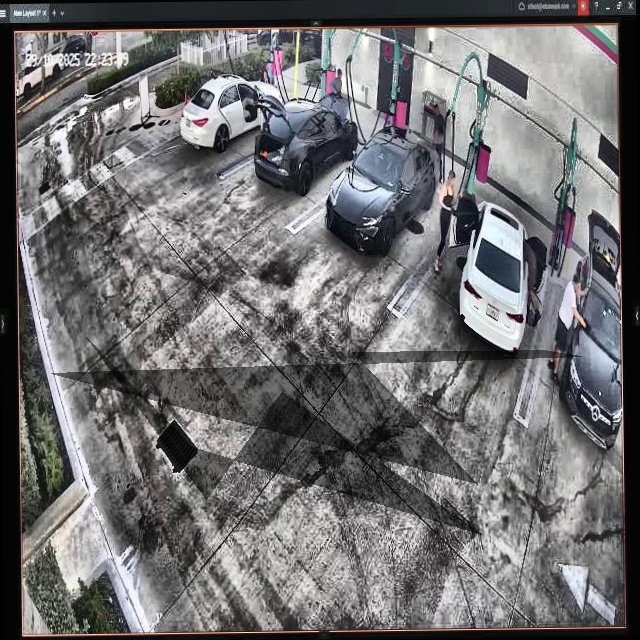Car: (325, 124, 436, 256), (451, 190, 536, 351), (254, 90, 357, 196), (181, 72, 284, 154)
